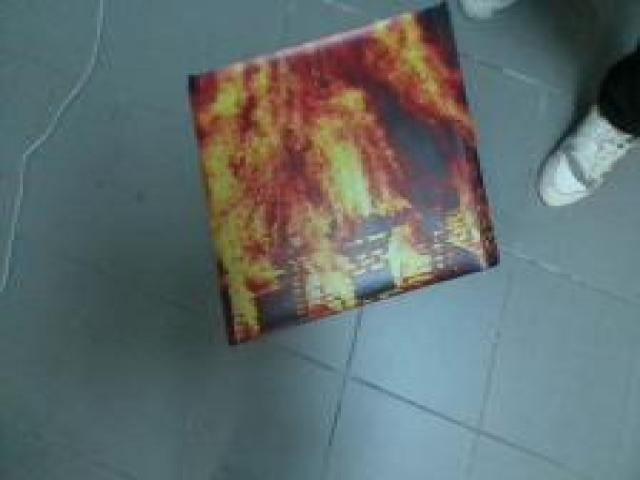fire-poster: (183, 0, 503, 347)
